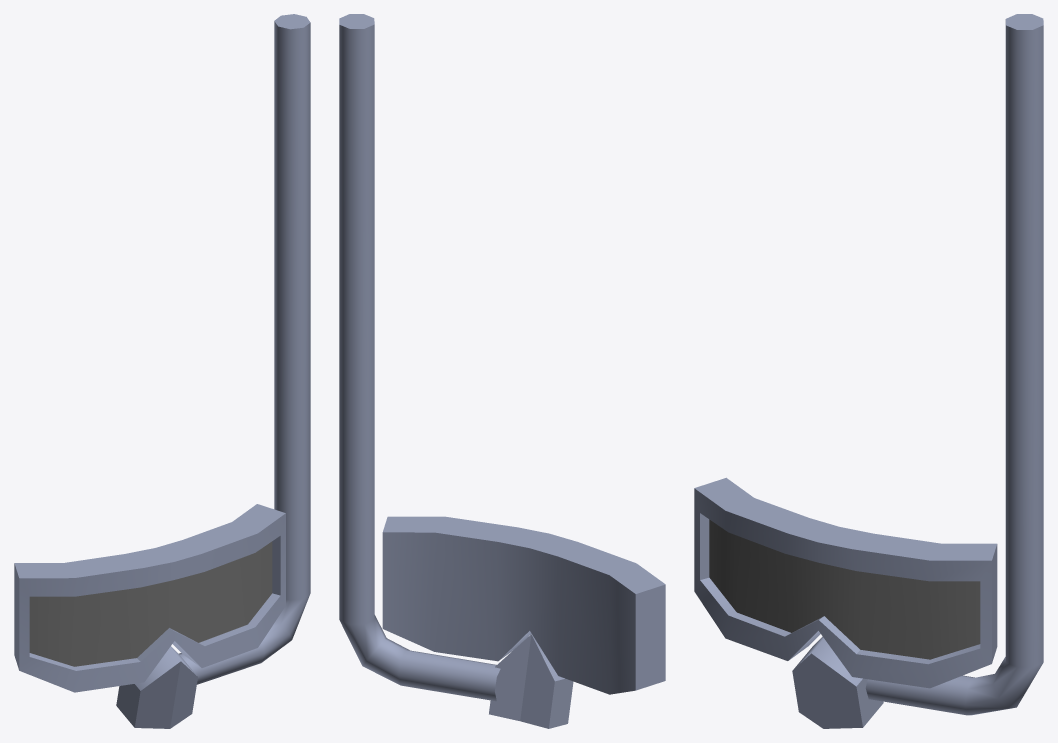
Rendered from Goggles.fbx.
3 renders of one model, left to right at view 1: azimuth 30°, elevation 25°; view 2: azimuth 150°, elevation 25°; view 3: azimuth 330°, elevation 25°, orthographic. The views are drawn at different scales.
Parts seen in each view (by area): view 1: Goggles; view 2: Goggles; view 3: Goggles.
Boxes of the visible parts, <box> form: Goggles: <box>14,14,310,728</box>; Goggles: <box>339,14,665,728</box>; Goggles: <box>694,14,1043,728</box>.
Bounding box in the file's own units: 64.69 × 134 × 18.24.
